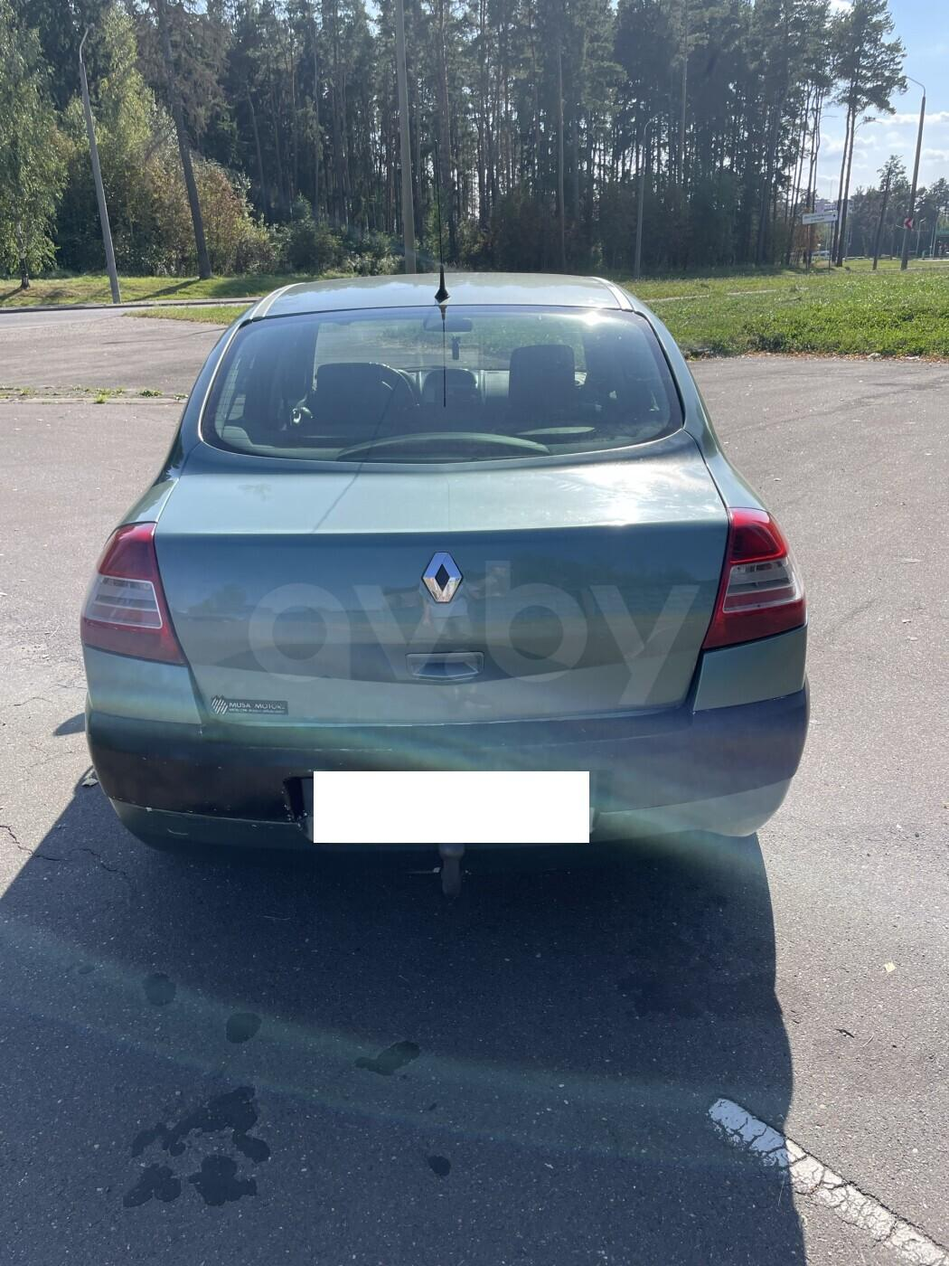Megane_2005-2009: (72, 269, 806, 888)
